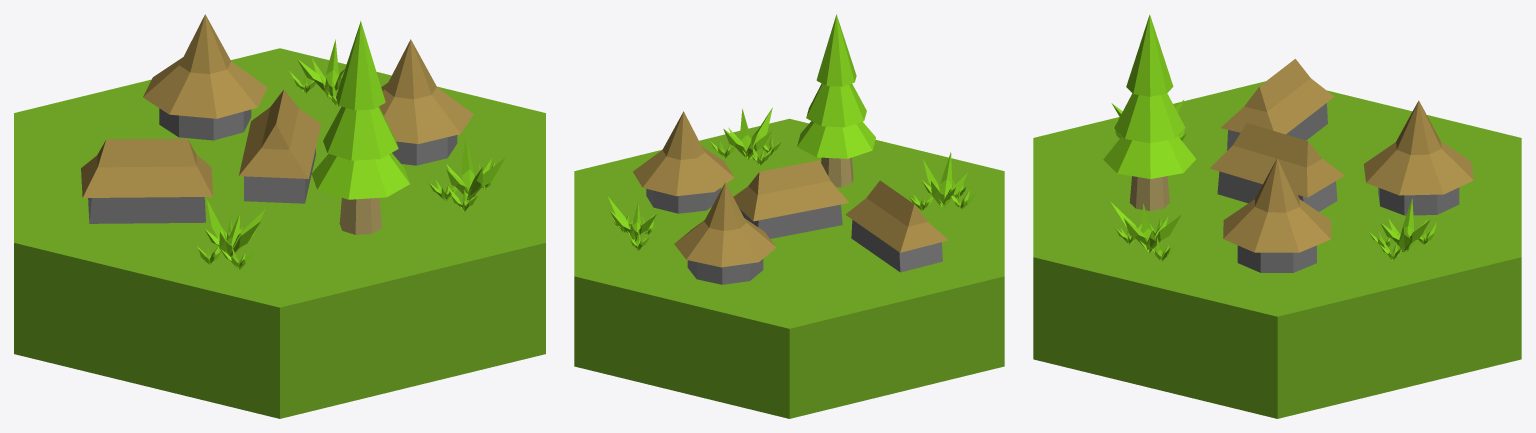
Rendered from Casas_Pinos_Bajos_4.fbx.
3 renders of one model, left to right at view 1: azimuth 30°, elevation 25°; view 2: azimuth 150°, elevation 25°; view 3: azimuth 270°, elevation 25°, orthographic. The views are drawn at different scales.
Parts seen in each view (by area): view 1: Casas_Pinos_Bajos_4; view 2: Casas_Pinos_Bajos_4; view 3: Casas_Pinos_Bajos_4.
Part boxes in pixels (x1,y1,x2,y2): Casas_Pinos_Bajos_4: (14,14,545,418); Casas_Pinos_Bajos_4: (574,14,1004,418); Casas_Pinos_Bajos_4: (1033,14,1521,418).
Bounding box in the file's own units: 200 × 114 × 173.
